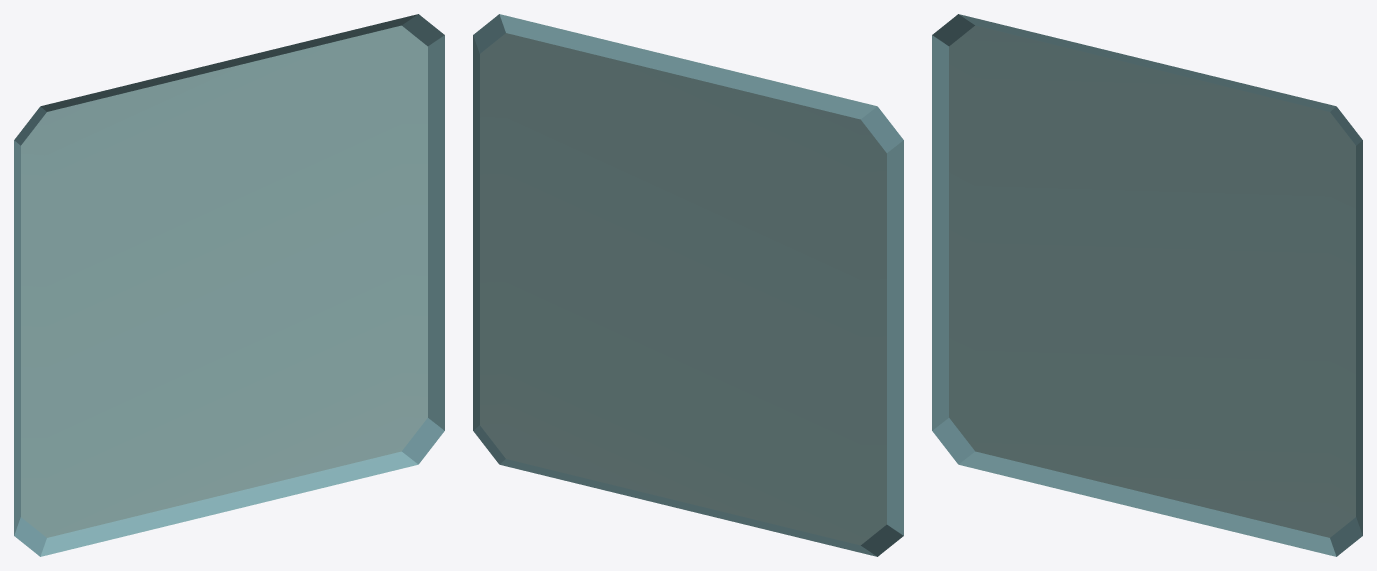
The model's file is Concrete Tile 01.FBX.
3 views of the same model, side by side, from view 1: azimuth 30°, elevation 25°; view 2: azimuth 150°, elevation 25°; view 3: azimuth 330°, elevation 25° (orthographic).
Visible parts, largest first — view 1: Concrete Tile 01; view 2: Concrete Tile 01; view 3: Concrete Tile 01.
Part boxes in pixels (x1=…): Concrete Tile 01: x1=14, y1=14, x2=444, y2=556; Concrete Tile 01: x1=473, y1=14, x2=903, y2=556; Concrete Tile 01: x1=932, y1=14, x2=1362, y2=556.
Size of the model in its own units: 149 by 149 by 3.07.
1 material, 1 textured.
